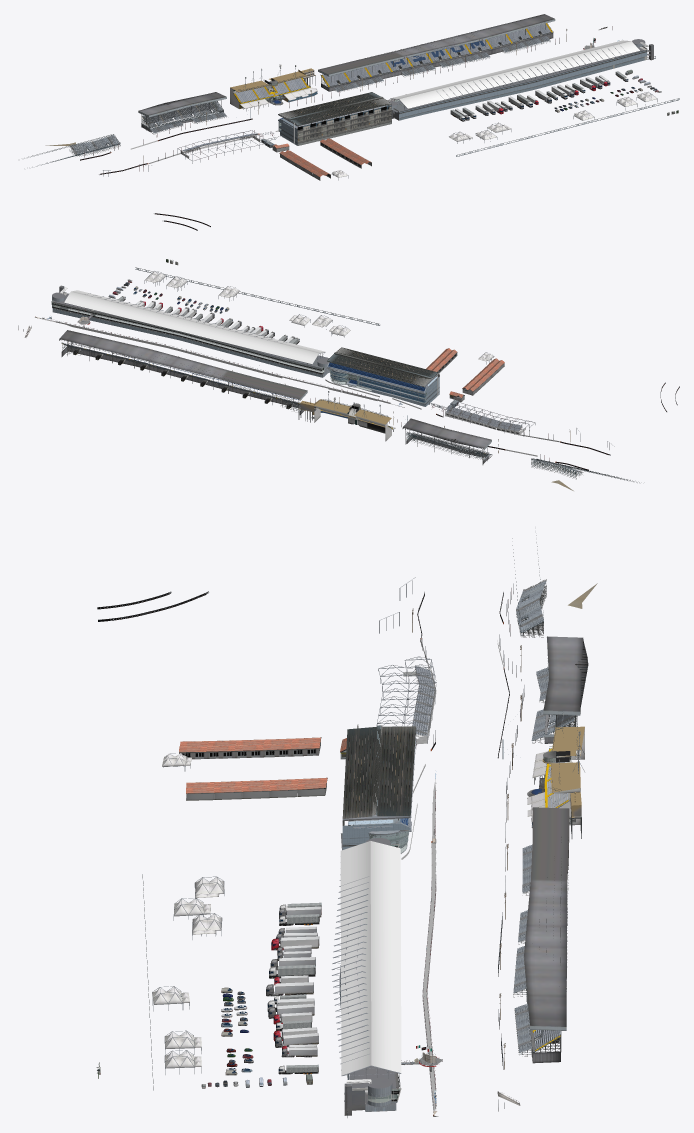
The model's file is f1-monza-scenery.glb.
3 renders of one model, top to bottom at view 1: azimuth 30°, elevation 25°; view 2: azimuth 150°, elevation 25°; view 3: azimuth 270°, elevation 25°, orthographic. The views are drawn at different scales.
Visible parts, largest first — view 1: Imported_Monza_box_M.005_2_1, Imported_Monza_box_M.005_4_1, Imported_Monza_paddk.005_7_1, Imported_Monza_box_M.005_7_1, Imported_Monza_gstand.005_10_-2, Imported_Monza_gstand.005_3_-2, Imported_Monza_gstand.005_8_-2, Imported_Monza_gstand.005_9_-2, Imported_Monza_gstand.005_6_-2, Imported_Monza_gstand.005_7_-2, Imported_Monza_gstand.005_5_-2, Imported_Monza_gstand.005_4_-2 (+24 smaller); view 2: Imported_Monza_box_M.005_2_1, Imported_Monza_box_M.005_4_1, Imported_Monza_box_M.005_7_1, Imported_Monza_gstand.005_3_-2, Imported_Monza_box_M.005_7_0, Imported_Monza_gstand.005_10_-2, Imported_Monza_gstand-alpha.005_7_0, Imported_Monza_gstand.005_8_-2, Imported_Monza_gstand.005_7_-2, Imported_Monza_gstand.005_5_-2, Imported_Monza_gstand.005_6_-2, Imported_Monza_gstand.005_4_-2 (+12 smaller); view 3: Imported_Monza_box_M.005_2_1, Imported_Monza_box_M.005_4_1, Imported_Monza_box_M.005_7_1, Imported_Monza_gstand.005_3_-2, Imported_Monza_gstand.005_10_-2, Imported_Monza_Vehicles.005_3_2, Imported_Monza_gstand.005_7_-2, Imported_Monza_Vehicles.005_4_2, Imported_Monza_box.005_0_1, Imported_Monza_box_M.005_7_0, Imported_Monza_Vehicles.005_1_2, Imported_Monza_gstand.005_9_-2 (+11 smaller).
Part boxes in pixels (<box>): Imported_Monza_box_M.005_2_1: <box>402,40,639,98</box>; Imported_Monza_box_M.005_4_1: <box>391,44,638,108</box>; Imported_Monza_paddk.005_7_1: <box>297,105,391,145</box>; Imported_Monza_box_M.005_7_1: <box>282,92,391,128</box>; Imported_Monza_gstand.005_10_-2: <box>139,92,215,132</box>; Imported_Monza_gstand.005_3_-2: <box>395,14,543,56</box>; Imported_Monza_gstand.005_8_-2: <box>230,80,279,109</box>; Imported_Monza_gstand.005_9_-2: <box>180,92,226,122</box>; Imported_Monza_gstand.005_6_-2: <box>310,61,364,90</box>; Imported_Monza_gstand.005_7_-2: <box>269,68,317,101</box>; Imported_Monza_gstand.005_5_-2: <box>352,51,404,78</box>; Imported_Monza_gstand.005_4_-2: <box>393,39,476,69</box>; Imported_Monza_box_M.005_2_1: <box>64,290,309,363</box>; Imported_Monza_box_M.005_4_1: <box>73,292,325,363</box>; Imported_Monza_box_M.005_7_1: <box>327,347,438,388</box>; Imported_Monza_gstand.005_3_-2: <box>60,339,219,378</box>; Imported_Monza_box_M.005_7_0: <box>327,361,431,403</box>; Imported_Monza_gstand.005_10_-2: <box>403,427,491,457</box>; Imported_Monza_gstand-alpha.005_7_0: <box>328,362,425,398</box>; Imported_Monza_gstand.005_8_-2: <box>348,403,395,441</box>; Imported_Monza_gstand.005_7_-2: <box>300,399,359,424</box>; Imported_Monza_gstand.005_5_-2: <box>216,370,270,399</box>; Imported_Monza_gstand.005_6_-2: <box>259,381,307,419</box>; Imported_Monza_gstand.005_4_-2: <box>154,350,229,389</box>; Imported_Monza_box_M.005_2_1: <box>332,842,401,1075</box>; Imported_Monza_box_M.005_4_1: <box>335,841,400,1074</box>; Imported_Monza_box_M.005_7_1: <box>342,725,410,828</box>; Imported_Monza_gstand.005_3_-2: <box>524,881,567,1026</box>; Imported_Monza_gstand.005_10_-2: <box>537,636,588,729</box>; Imported_Monza_Vehicles.005_3_2: <box>266,951,315,996</box>; Imported_Monza_gstand.005_7_-2: <box>531,754,581,833</box>; Imported_Monza_Vehicles.005_4_2: <box>271,906,321,955</box>; Imported_Monza_box.005_0_1: <box>347,1066,399,1111</box>; Imported_Monza_box_M.005_7_0: <box>382,726,415,830</box>; Imported_Monza_Vehicles.005_1_2: <box>253,1027,318,1074</box>; Imported_Monza_gstand.005_9_-2: <box>536,676,585,743</box>.
Size of the model in its own units: 578 by 28.62 by 211.
19 materials, 19 textured.
